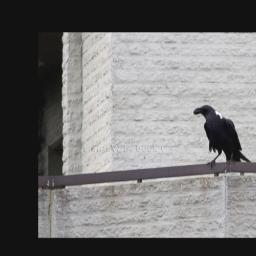Crow: (192, 103, 253, 175)
